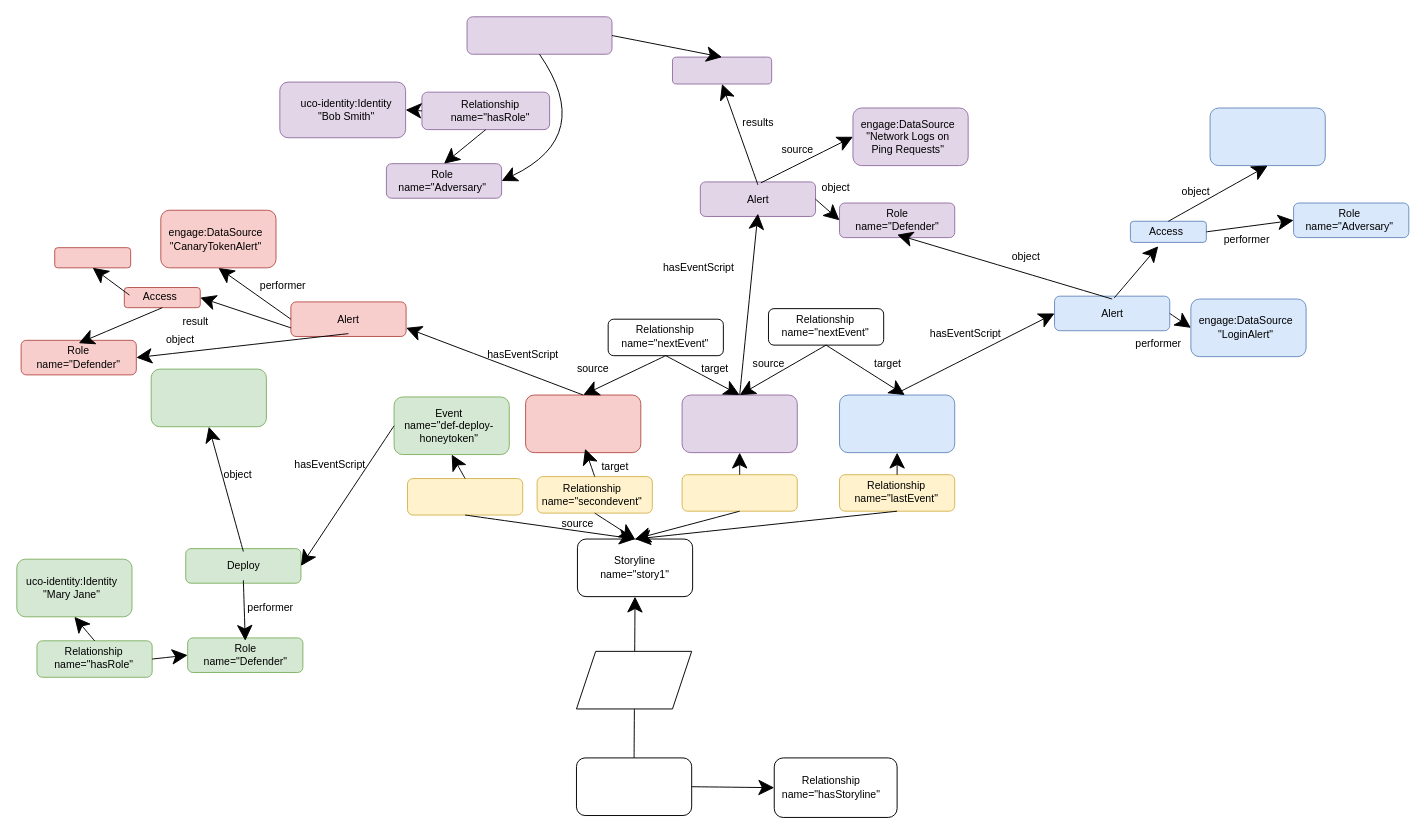
Image size: 1426x834. Some labels were removed from this diagram. The shapes that lost their labels are listed below. From the top down, each one's centre as x and y in pixels, then its label:
[539,35]: Relationship name="hasKnownlP"
[722,70]: AdvIP
[1267,136]: engage:Honeypot "Windows XP"
[92,257]: File
[208,397]: engage:HoneyToken "User Account Credentials"
[583,423]: Event name="adv-finds-honeytoken"
[739,423]: Event name="adv-scans-honeypot"
[897,423]: Event name="adv-uses-honeytoken"
[465,496]: Relationship name="startevent"
[739,492]: Relationship name="thirdEvent"
[634,679]: hasStoryline
[634,786]: Narrative
